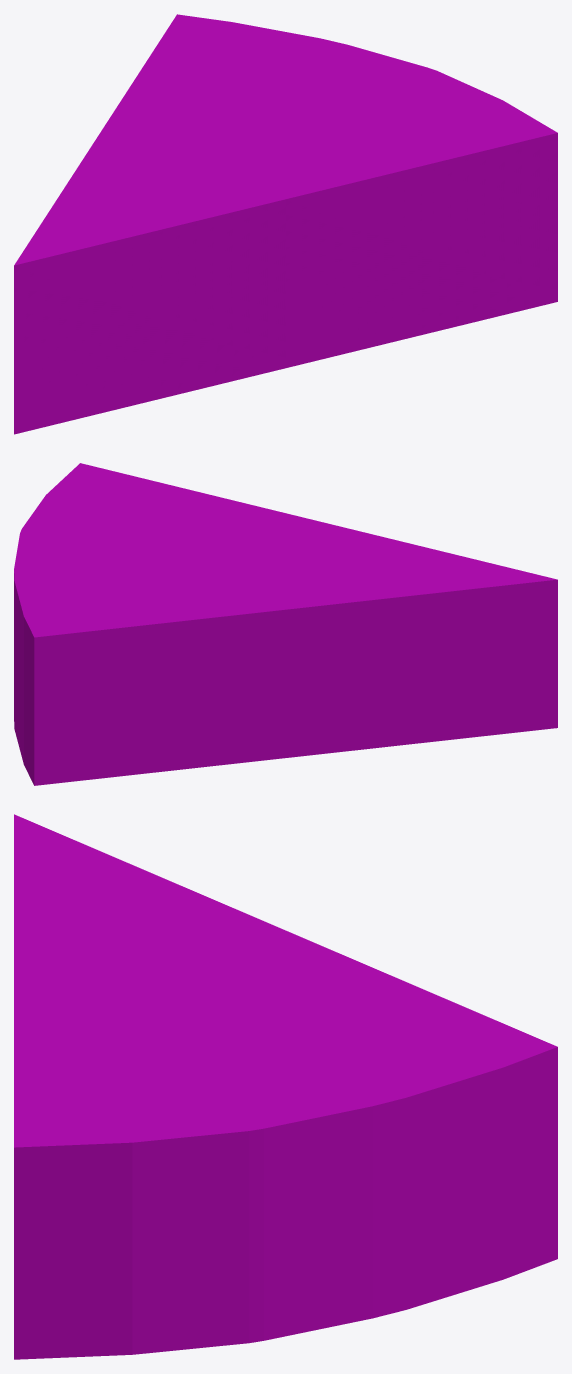
Rendered from pezzoTetris8.fbx.
The picture shows the model from 3 angles, top to bottom: view 1: azimuth 30°, elevation 25°; view 2: azimuth 150°, elevation 25°; view 3: azimuth 270°, elevation 25°; orthographic projection. The views are drawn at different scales.
Visible parts, largest first — view 1: Cube.001; view 2: Cube.001; view 3: Cube.001.
Part boxes in pixels (box(x1,y1,x2,y2)): Cube.001: box(14, 14, 557, 434); Cube.001: box(14, 463, 557, 785); Cube.001: box(14, 814, 557, 1359).
Size of the model in its own units: 65.75 by 19.52 by 45.35.
